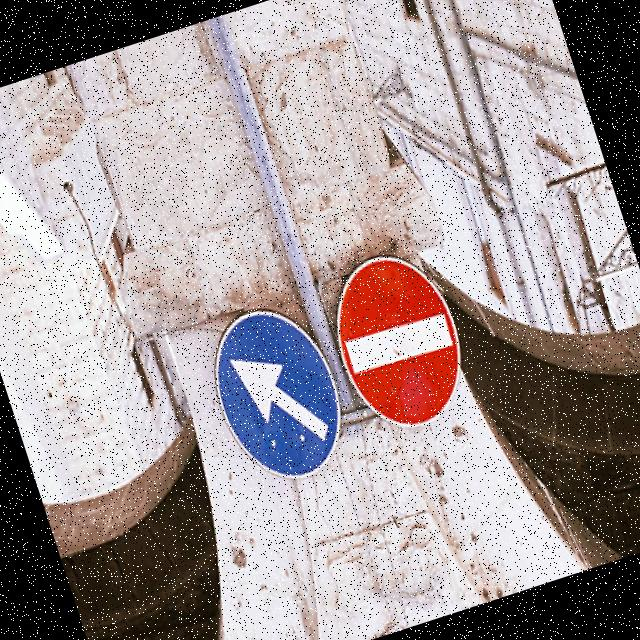compulsory_keep_right: (185, 270, 362, 508)
do_not_enter: (312, 227, 492, 450)
